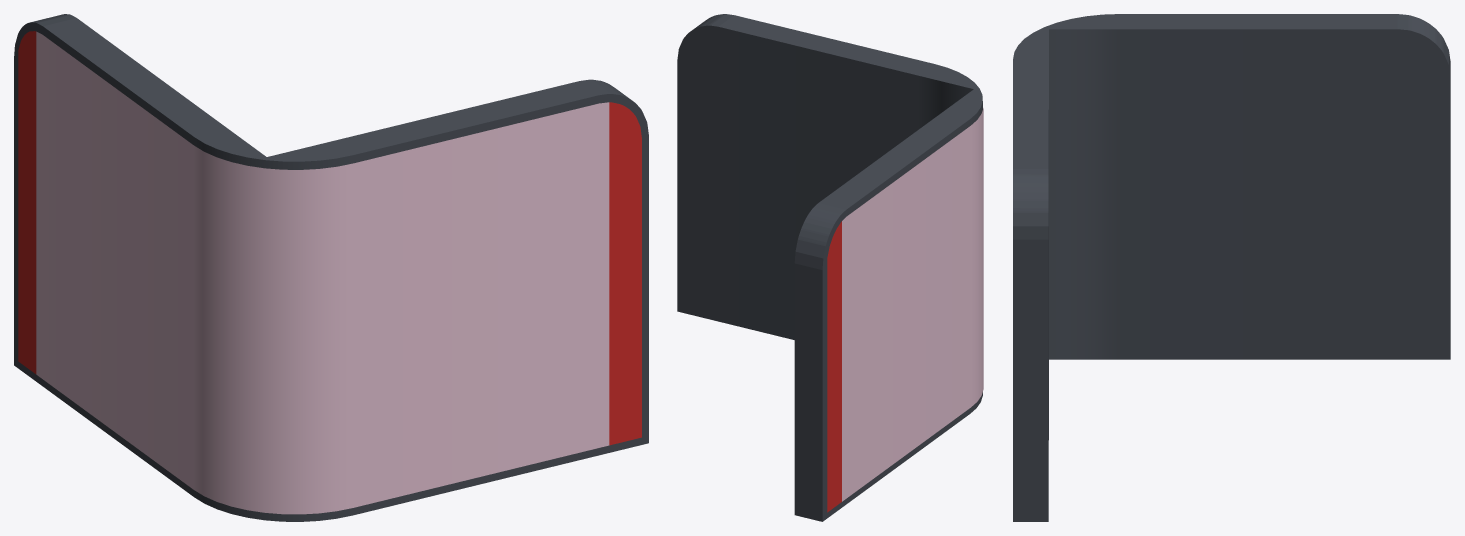
Rendered from nyc-20-times-square-screen.glb.
3 views of the same model, side by side, from view 1: azimuth 30°, elevation 25°; view 2: azimuth 150°, elevation 25°; view 3: azimuth 270°, elevation 25° (orthographic). The views are drawn at different scales.
Parts seen in each view (by area): view 1: 20 Times Square Screen; view 2: 20 Times Square Screen; view 3: 20 Times Square Screen.
Part boxes in pixels (bbox=[...]): 20 Times Square Screen: bbox=[14, 14, 648, 521]; 20 Times Square Screen: bbox=[677, 14, 983, 521]; 20 Times Square Screen: bbox=[1013, 14, 1450, 521].
Bounding box in the file's own units: 31.61 × 27.4 × 32.94.
